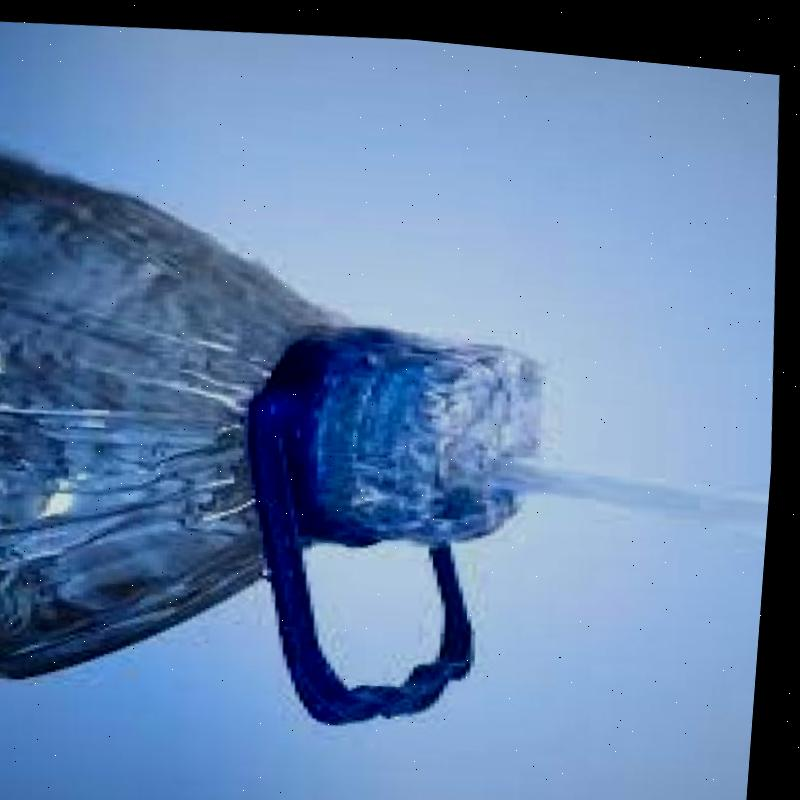botella: (0, 122, 550, 727)
